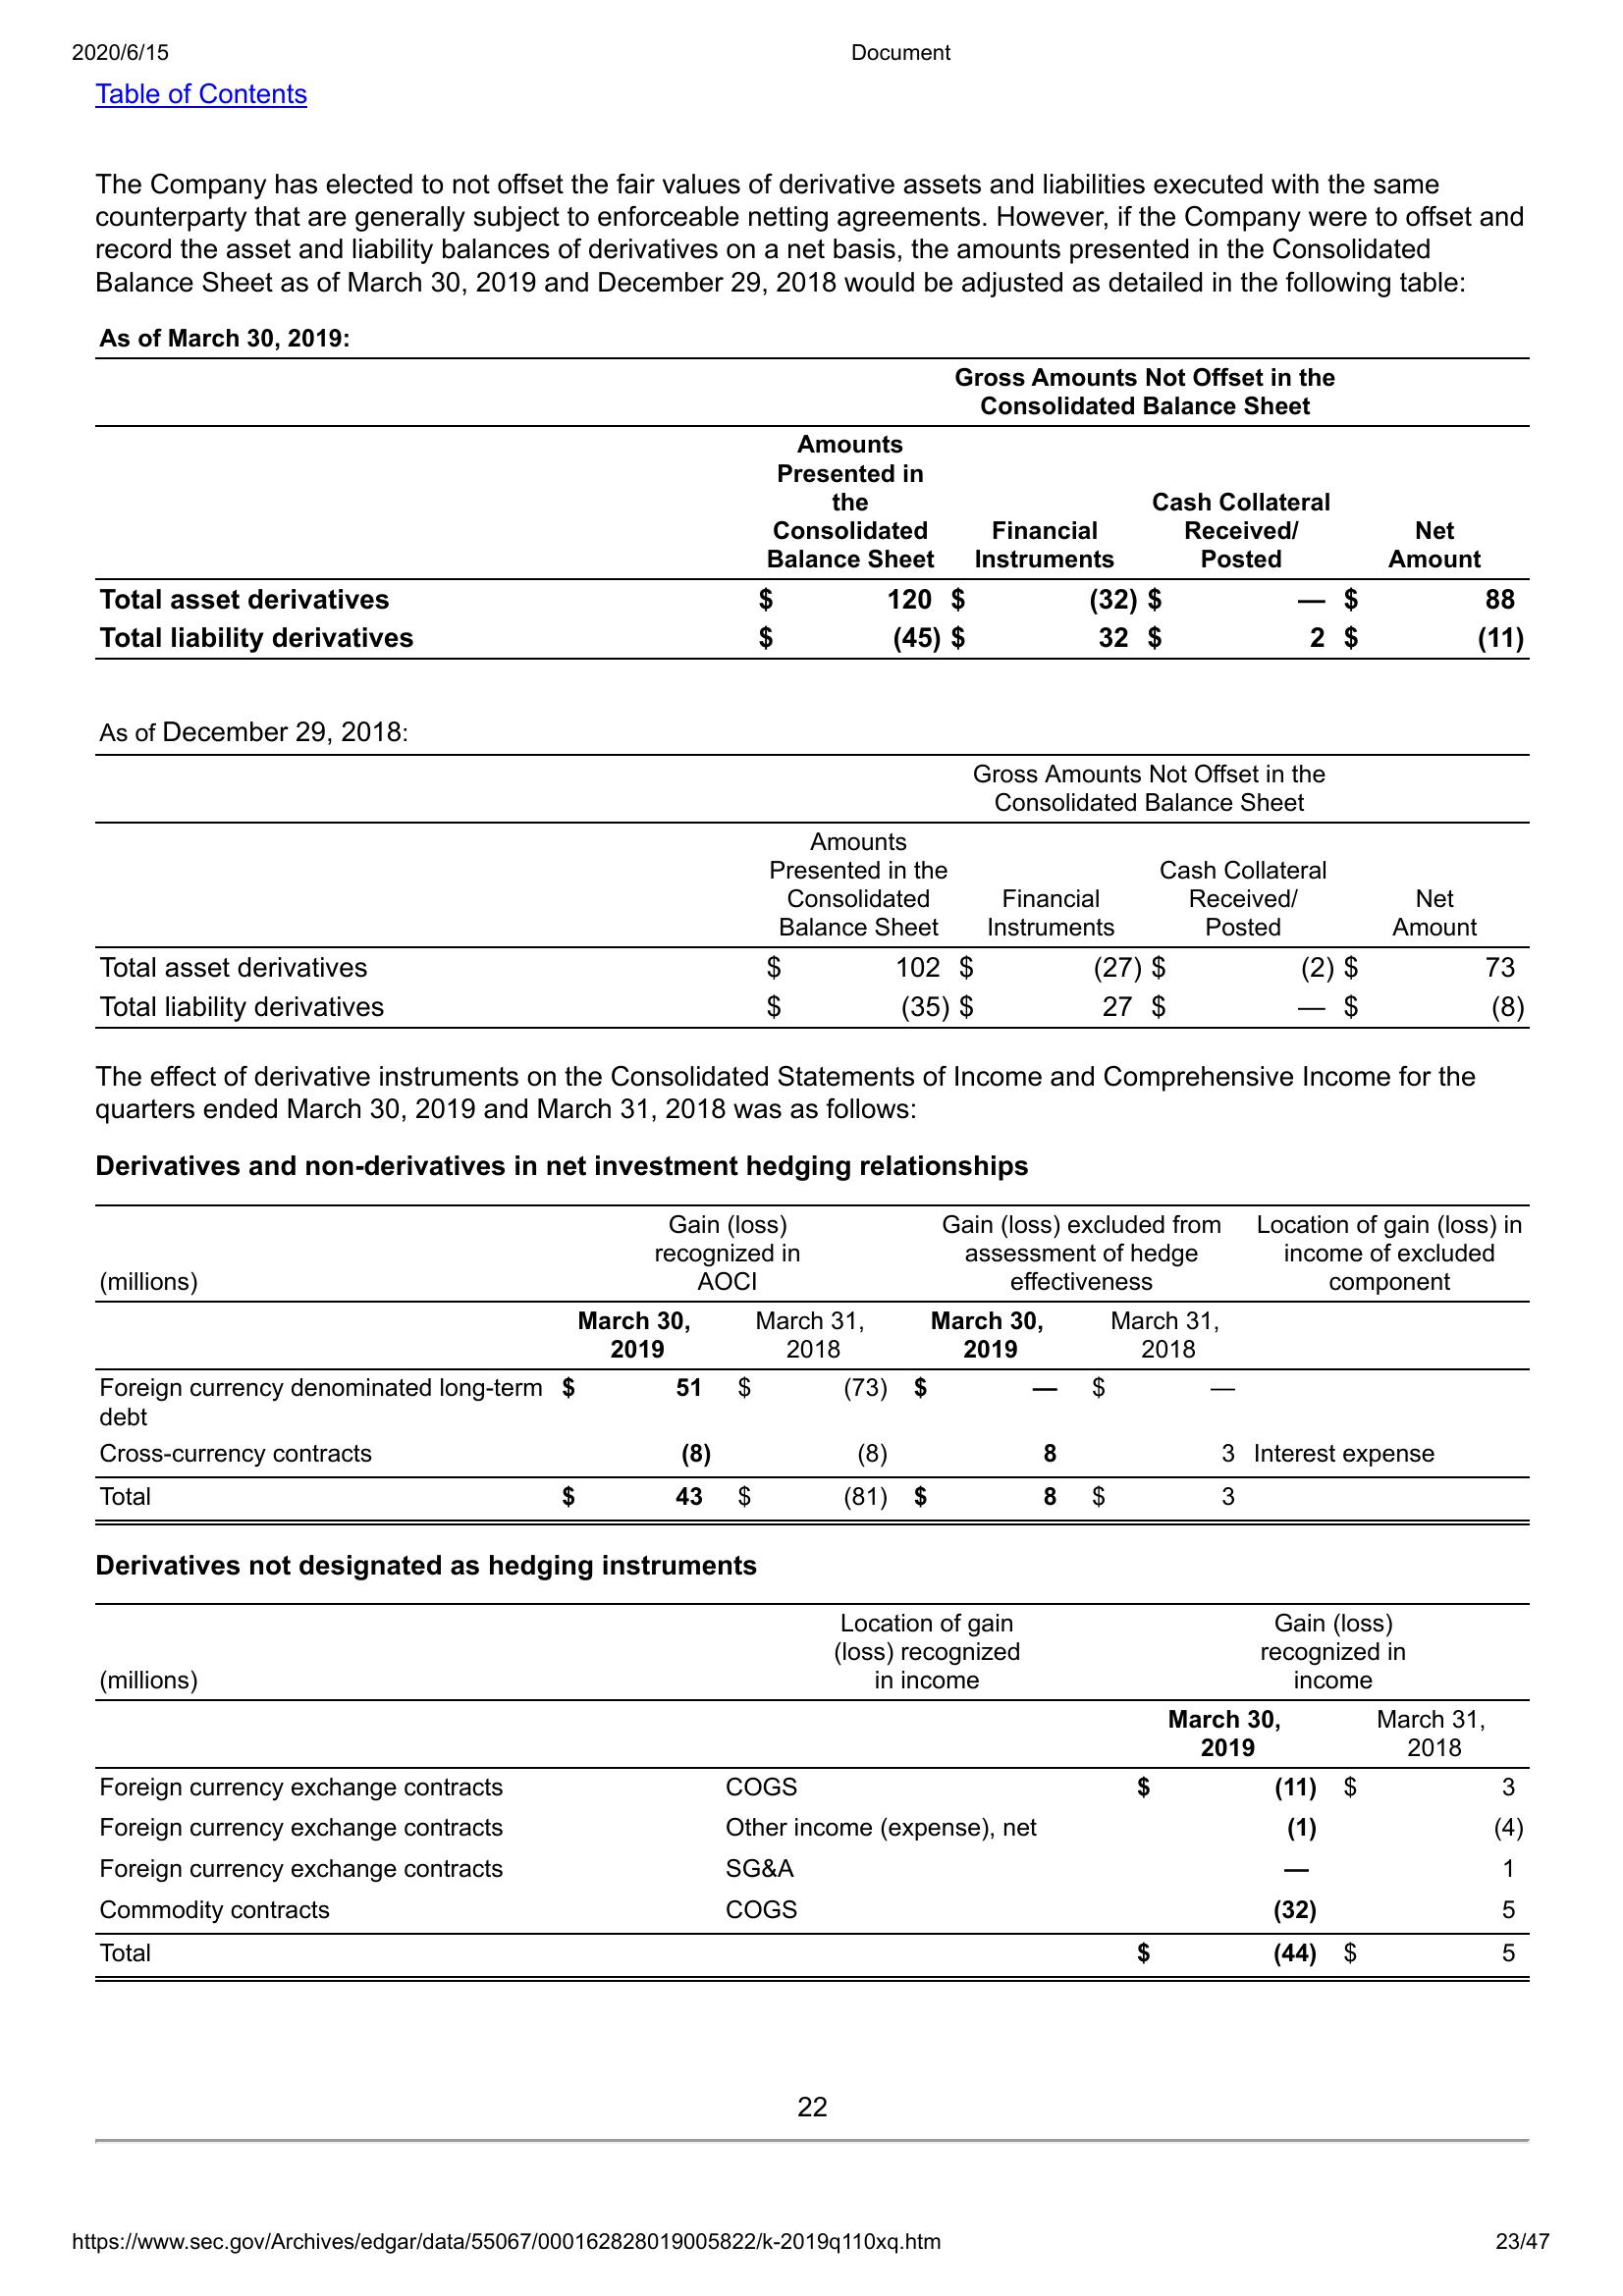table: (88, 1596, 1537, 1992), (90, 1201, 1539, 1532), (90, 351, 1542, 671), (93, 748, 1539, 1037)
